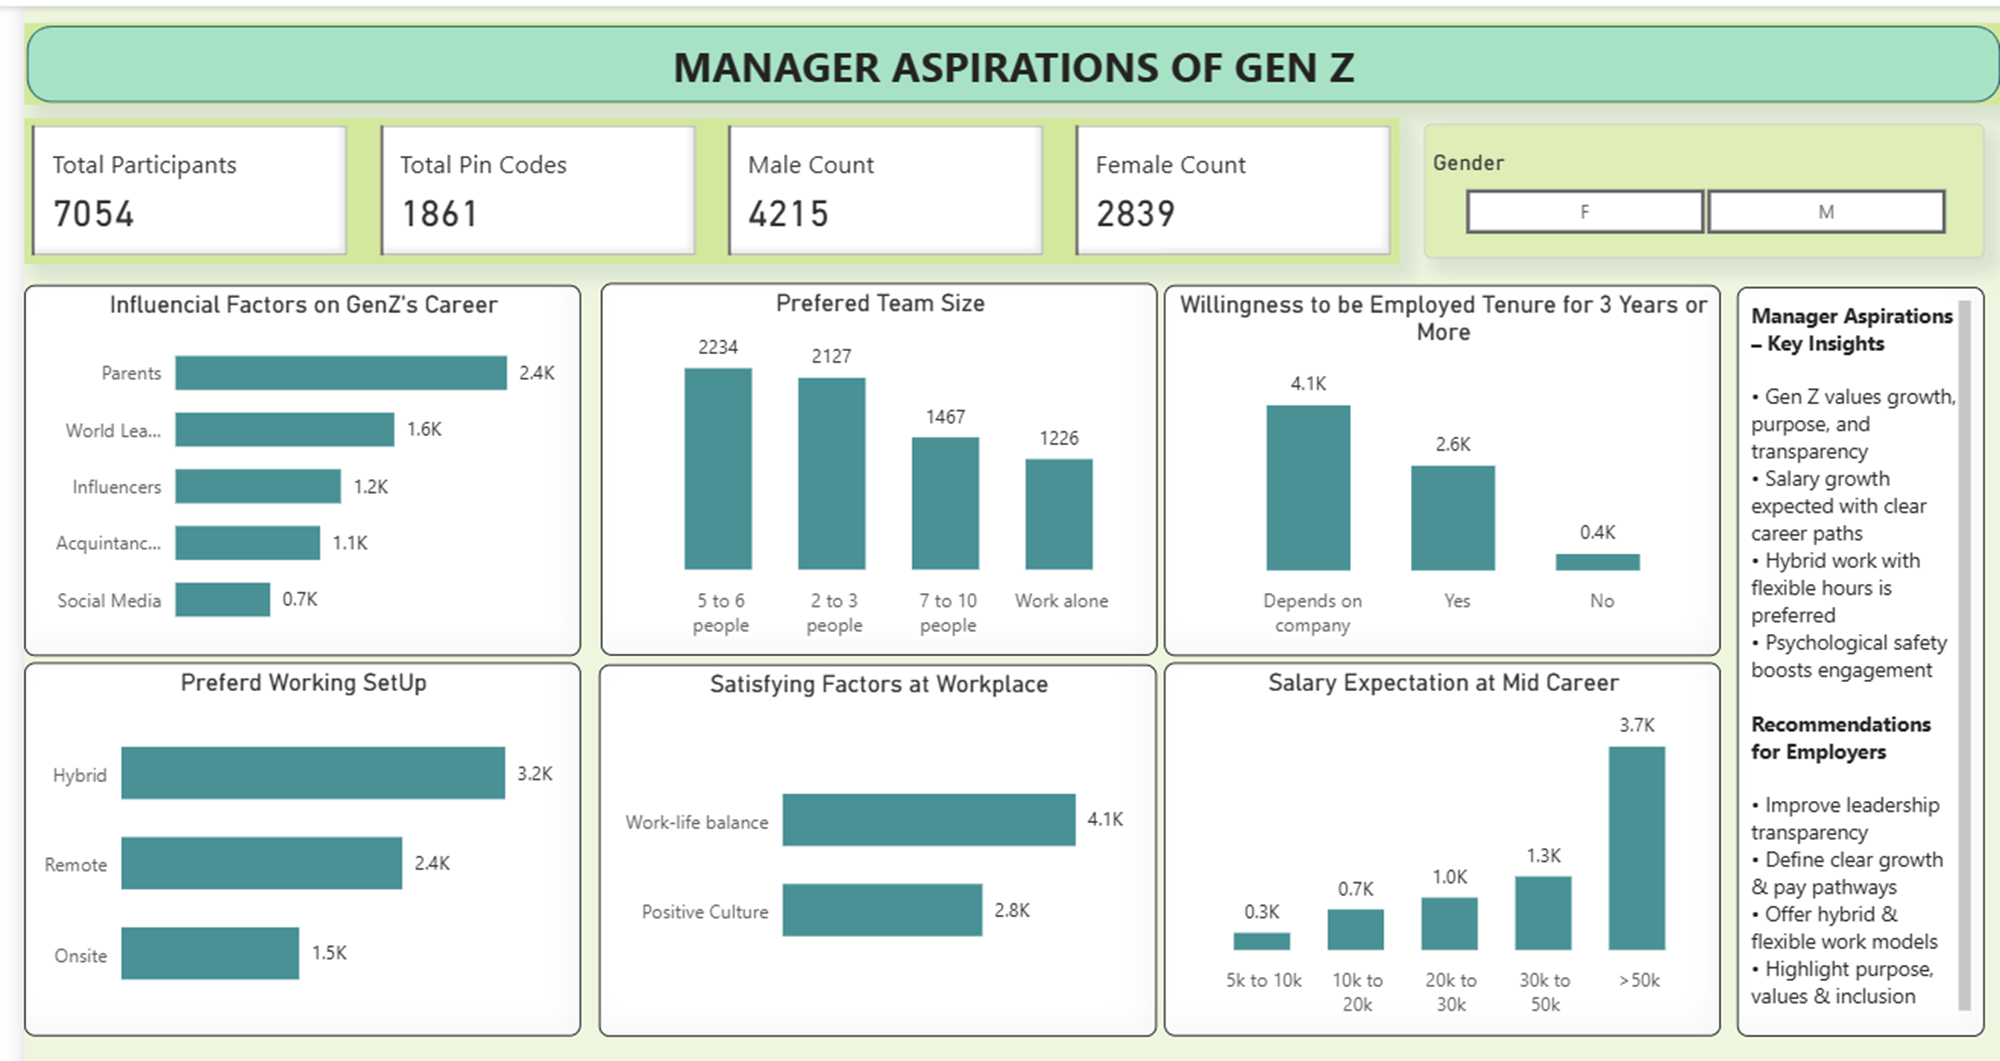

The page's visual inventory and layout, read from the dashboard file:
{"tool":"powerbi","page":{"name":"Manager Aspiration","canvas":[1280,720],"ordinal":1},"visuals":[{"type":"shape","box":[0,11.1,1280,53],"z":0},{"type":"cardVisual","fields":{"Data":["Table3.Total Participants","Table3.Total Pin Codes","Table3.Male Count","Table3.Female Count"]},"box":[0,72.6,889.8,94.8],"z":1000},{"type":"slicer","title":"Gender","fields":{"Values":["Table3.Gender"]},"box":[905,76.2,362.5,87.5],"z":2000},{"type":"clusteredBarChart","title":"Influencial Factors on GenZ''s Career","fields":{"Category":["Table3.Career Influence"],"Y":["CountNonNull(Table3.Career Influence)"]},"box":[0,180,360,240],"z":3000},{"type":"columnChart","title":"Prefered Team Size","fields":{"Category":["Table3.Prefered_Team_Size"],"Y":["CountNonNull(Table3.Prefered_Team_Size)"]},"box":[372.9,179.5,360.3,240.7],"z":4000},{"type":"clusteredBarChart","title":"Preferd Working SetUp","fields":{"Category":["Table3.Working_Environment"],"Y":["CountNonNull(Table3.Working_Environment)"]},"box":[0,425,360,241.2],"z":5000},{"type":"clusteredBarChart","title":"Satisfying Factors at Workplace","fields":{"Category":["Table3.Work_Satisfaction_Factors"],"Y":["CountNonNull(Table3.Work_Satisfaction_Factors)"]},"box":[372.2,425.6,361.1,241.1],"z":6000},{"type":"columnChart","title":"Willingness to be Employed Tenure for 3 Years or More","fields":{"Category":["Table3.Employment Tenure for 3 Years"],"Y":["CountNonNull(Table3.Employment Tenure for 3 Years)"]},"box":[737.1,180,360,240],"z":7000},{"type":"columnChart","title":"Salary Expectation at Mid Career","fields":{"Category":["Table3.Salary_for_Mid_Careers"],"Y":["CountNonNull(Table3.Salary_for_Mid_Careers)"]},"box":[737.5,425,360,241.2],"z":8000},{"type":"textbox","box":[1107.5,181.2,160,485],"z":9000}]}

Visuals, with their boxes on the page's 1280x720 design canvas (x1, y1, x2, y2). These are canvas units, not pixel positions in the 2000x1061 screenshot, which may show the page scaled, cropped or inside an application window:
shape: (left=0, top=11, right=1280, bottom=64)
cardVisual - Table3.Total Participants x Table3.Total Pin Codes: (left=0, top=73, right=890, bottom=167)
"Gender" slicer: (left=905, top=76, right=1268, bottom=164)
"Influencial Factors on GenZ''s Career" clusteredBarChart: (left=0, top=180, right=360, bottom=420)
"Prefered Team Size" columnChart: (left=373, top=180, right=733, bottom=420)
"Preferd Working SetUp" clusteredBarChart: (left=0, top=425, right=360, bottom=666)
"Satisfying Factors at Workplace" clusteredBarChart: (left=372, top=426, right=733, bottom=667)
"Willingness to be Employed Tenure for 3 Years or More" columnChart: (left=737, top=180, right=1097, bottom=420)
"Salary Expectation at Mid Career" columnChart: (left=738, top=425, right=1098, bottom=666)
textbox: (left=1108, top=181, right=1268, bottom=666)
